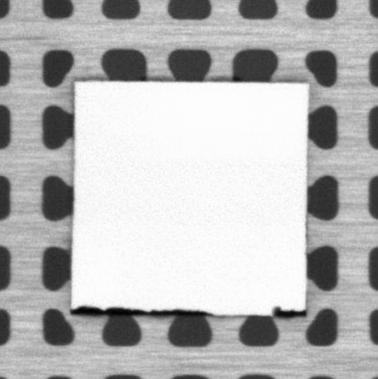DIE_BROKEN: (69, 301, 214, 317), (268, 304, 307, 318)
